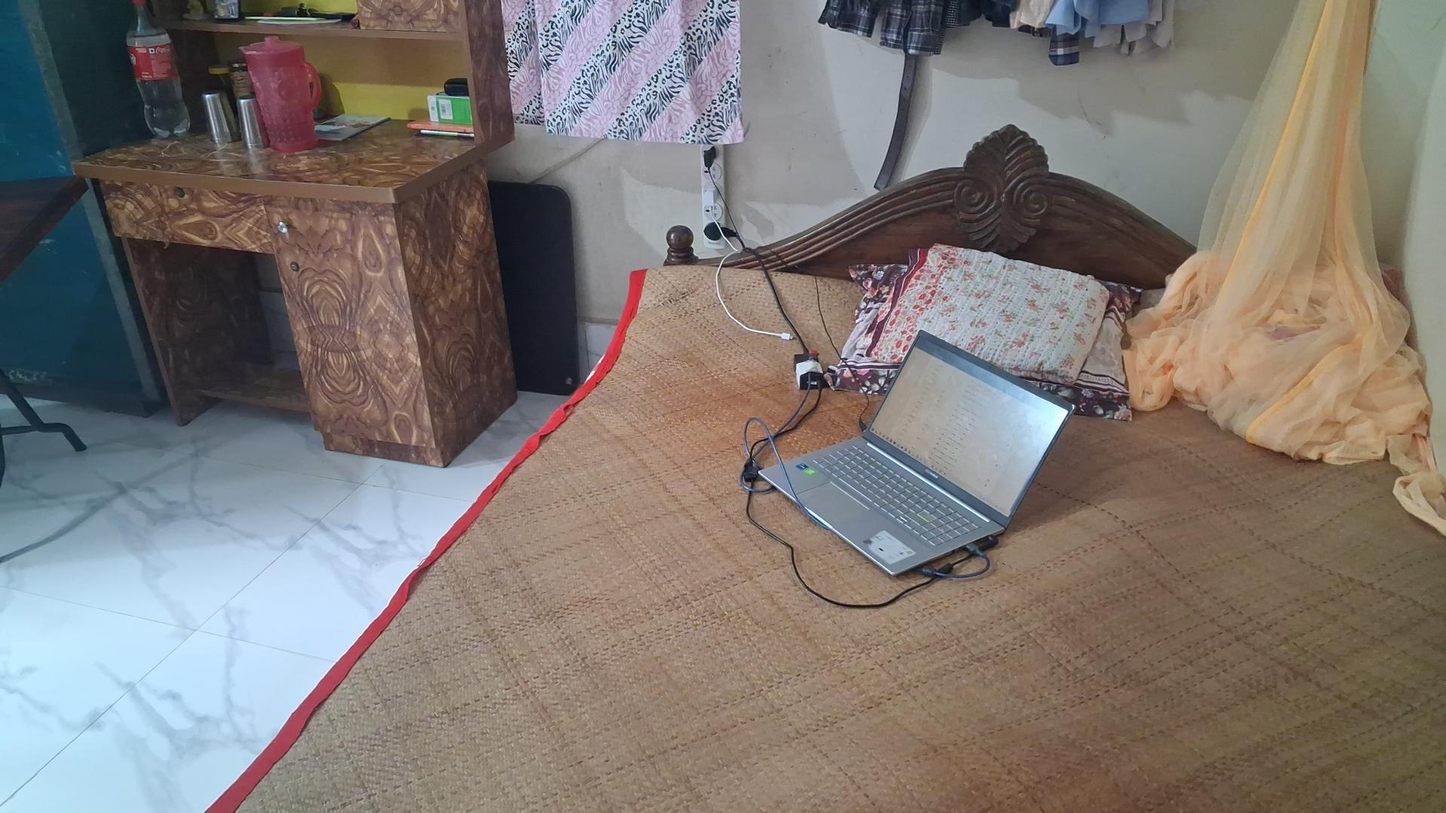Blanket: (868, 243, 1110, 383)
Bottle: (126, 0, 191, 139)
Box: (425, 91, 474, 128)
Glass: (199, 91, 238, 147), (236, 98, 263, 148)
Jug: (239, 37, 324, 152)
Laptop: (748, 330, 1076, 578)
